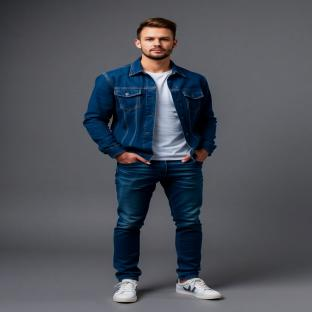Human: (84, 17, 221, 302)
